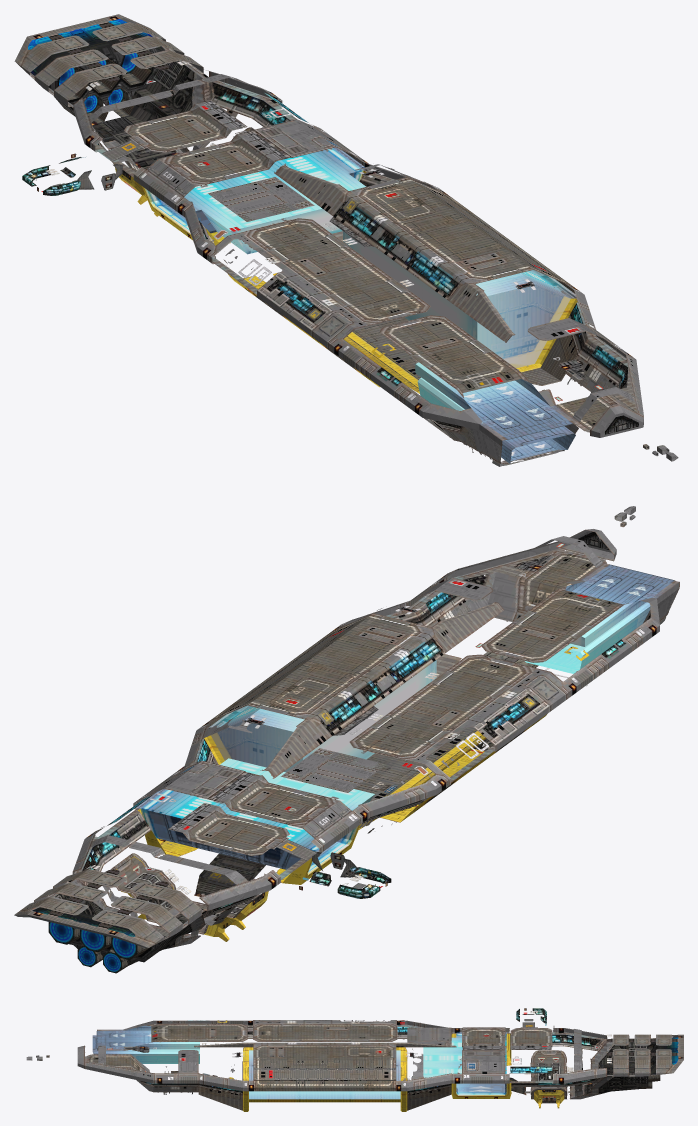
The picture shows the model from 3 angles, top to bottom: view 1: azimuth 30°, elevation 25°; view 2: azimuth 150°, elevation 25°; view 3: azimuth 270°, elevation 25°; orthographic projection. The views are drawn at different scales.
Visible parts, largest first — view 1: Hgn_Carrier_Main_TEX, Hgn_Carrier_Engine_TEX, Hgn_Carrier_Badge; view 2: Hgn_Carrier_Main_TEX, Hgn_Carrier_Engine_TEX, Hgn_Carrier_Badge, Hgn_C_Innate_Resource_TEX; view 3: Hgn_Carrier_Main_TEX, Hgn_Carrier_Badge, Hgn_Carrier_Engine_TEX, Hgn_C_Innate_Resource_TEX.
Boxes of the visible parts, x1,y1,x2,y2 form: Hgn_Carrier_Main_TEX: (14, 14, 678, 466); Hgn_Carrier_Engine_TEX: (22, 18, 164, 195); Hgn_Carrier_Badge: (208, 177, 314, 221); Hgn_Carrier_Main_TEX: (14, 506, 679, 972); Hgn_Carrier_Engine_TEX: (14, 839, 391, 973); Hgn_Carrier_Badge: (281, 748, 386, 792); Hgn_C_Innate_Resource_TEX: (116, 856, 268, 941); Hgn_Carrier_Main_TEX: (26, 1020, 683, 1111); Hgn_Carrier_Badge: (407, 1027, 451, 1045); Hgn_Carrier_Engine_TEX: (516, 1008, 678, 1074); Hgn_C_Innate_Resource_TEX: (534, 1090, 564, 1108).
Size of the model in its own units: 242 by 73.23 by 770.
